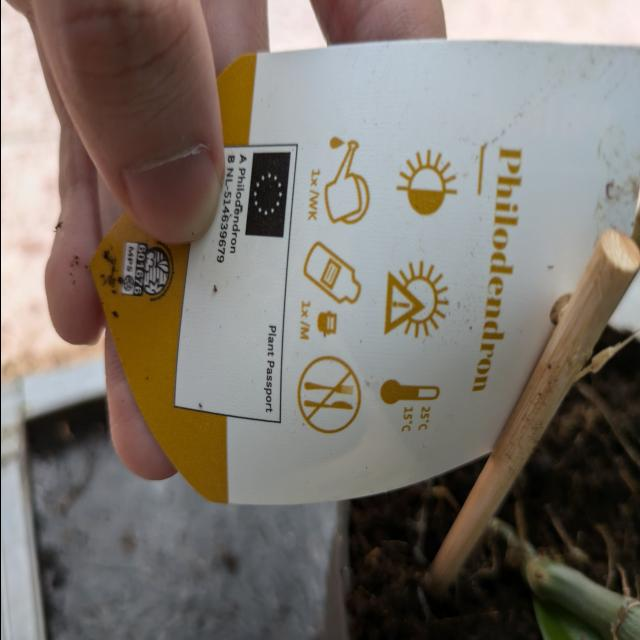dungen: (287, 238, 369, 352)
halb sonnig schattig: (396, 147, 460, 225)
keine Sonne: (380, 256, 454, 341)
mittel giesen: (302, 131, 372, 231)
